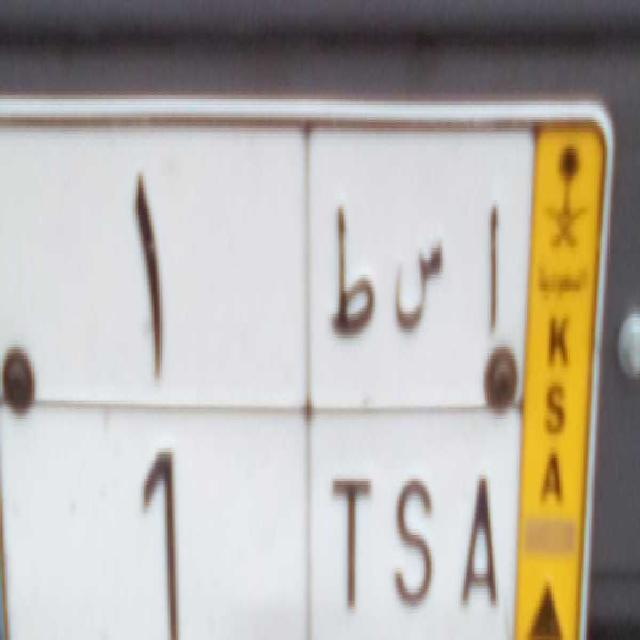license_plate: (2, 403, 522, 640)
